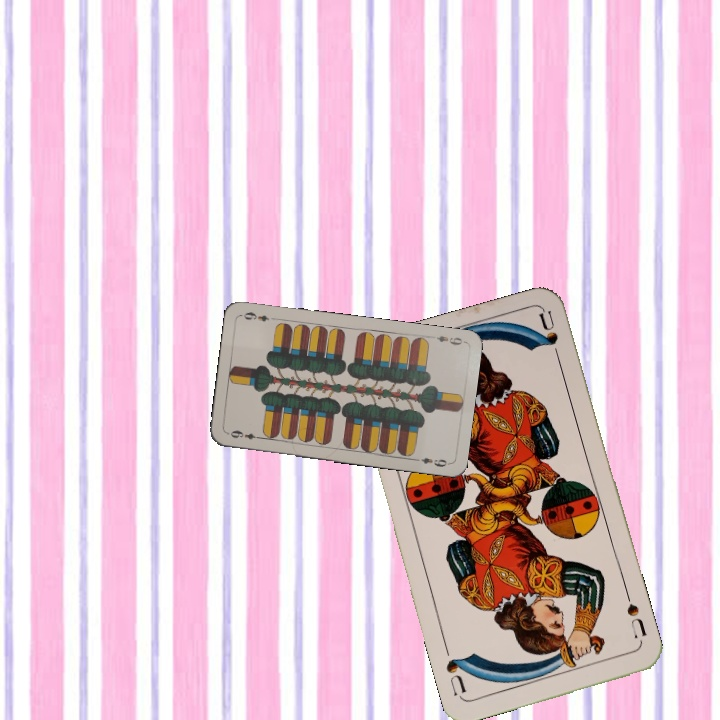E9: (426, 331, 467, 348), (224, 426, 264, 442)
SU: (621, 589, 649, 641)
